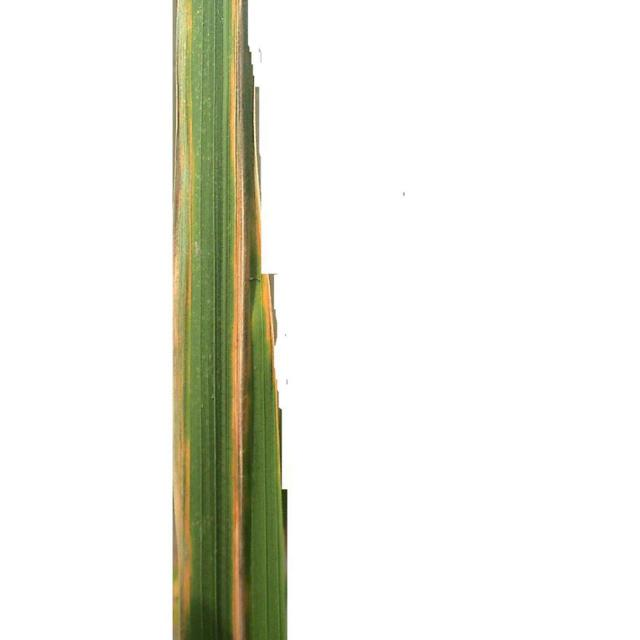Bacterial leaf blight: (224, 3, 252, 640), (174, 1, 199, 640), (261, 274, 284, 490)
